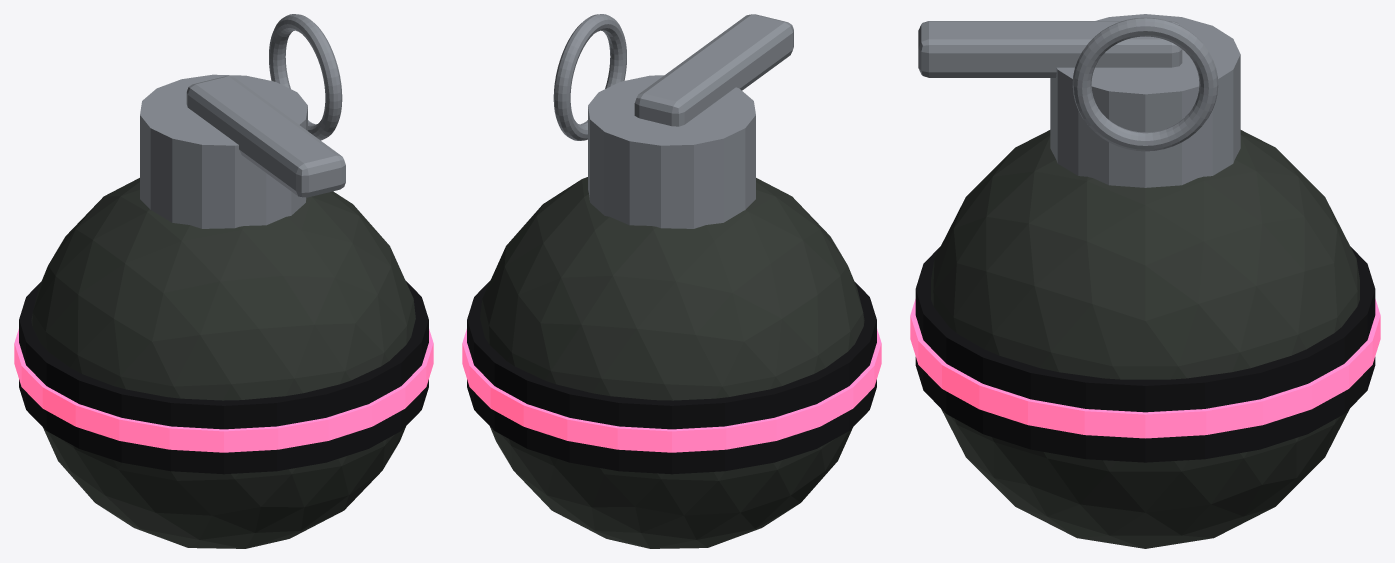
Rendered from grenade.glb.
3 views of the same model, side by side, from view 1: azimuth 30°, elevation 25°; view 2: azimuth 150°, elevation 25°; view 3: azimuth 270°, elevation 25° (orthographic). The views are drawn at different scales.
Parts seen in each view (by area): view 1: Grenade, Pin; view 2: Grenade, Pin; view 3: Grenade, Pin.
Boxes of the visible parts, x1=… form: Grenade: x1=14, y1=74, x2=433, y2=548; Pin: x1=269, y1=14, x2=342, y2=140; Grenade: x1=462, y1=14, x2=881, y2=548; Pin: x1=553, y1=14, x2=626, y2=140; Grenade: x1=910, y1=14, x2=1380, y2=548; Pin: x1=1072, y1=17, x2=1218, y2=151.
Bounding box in the file's own units: 0.089 × 0.1158 × 0.089.
